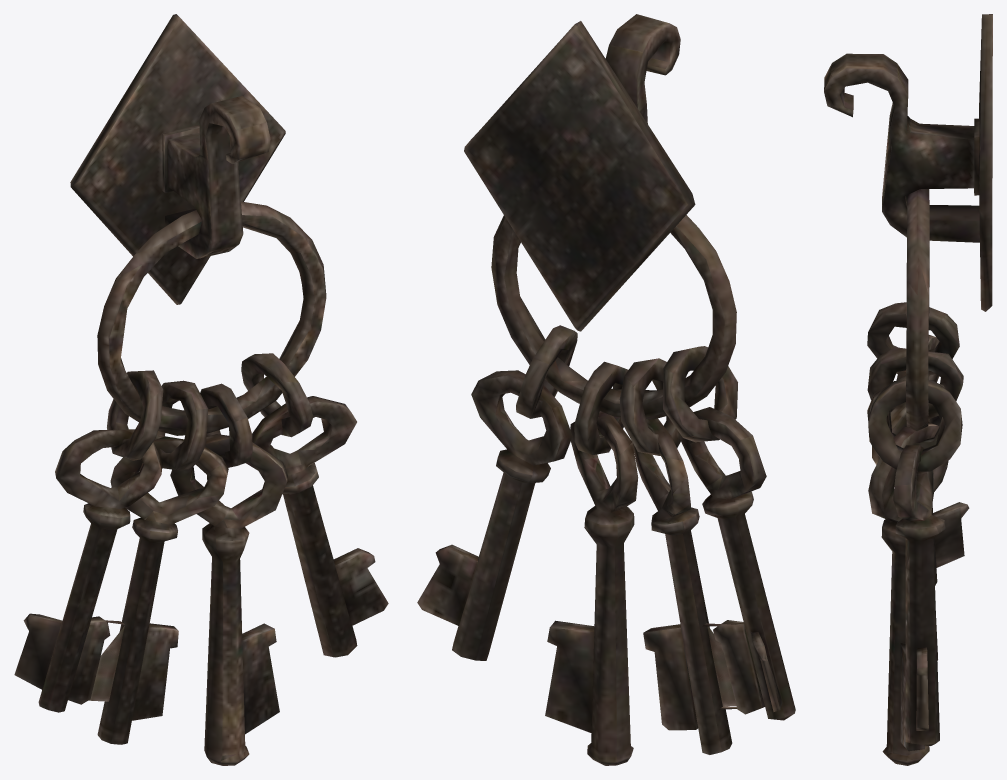
File: d_keyring_hanging.glb
3 renders of one model, left to right at view 1: azimuth 30°, elevation 25°; view 2: azimuth 150°, elevation 25°; view 3: azimuth 270°, elevation 25°, orthographic. The views are drawn at different scales.
Parts seen in each view (by area): view 1: d_keyring_hanging; view 2: d_keyring_hanging; view 3: d_keyring_hanging.
Boxes of the visible parts, <box> form: d_keyring_hanging: <box>14,14,388,765</box>; d_keyring_hanging: <box>417,14,795,765</box>; d_keyring_hanging: <box>824,14,992,765</box>.
Bounding box in the file's own units: 0.631 × 1.22 × 0.2528.
Materials: 1 (1 with a texture image).
